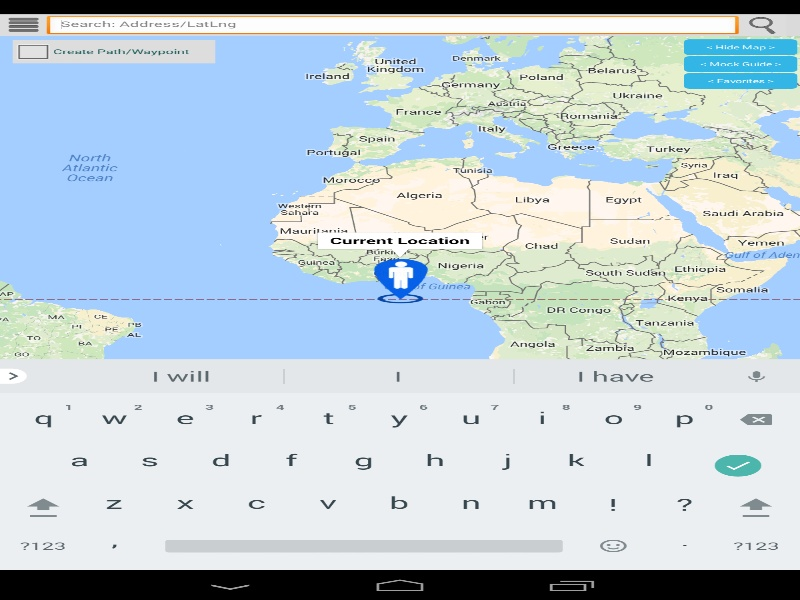Button: (2, 514, 98, 559), (684, 39, 797, 54), (684, 56, 797, 71), (684, 73, 797, 88), (739, 14, 786, 36), (0, 14, 46, 36)
Input: (46, 15, 738, 36)
